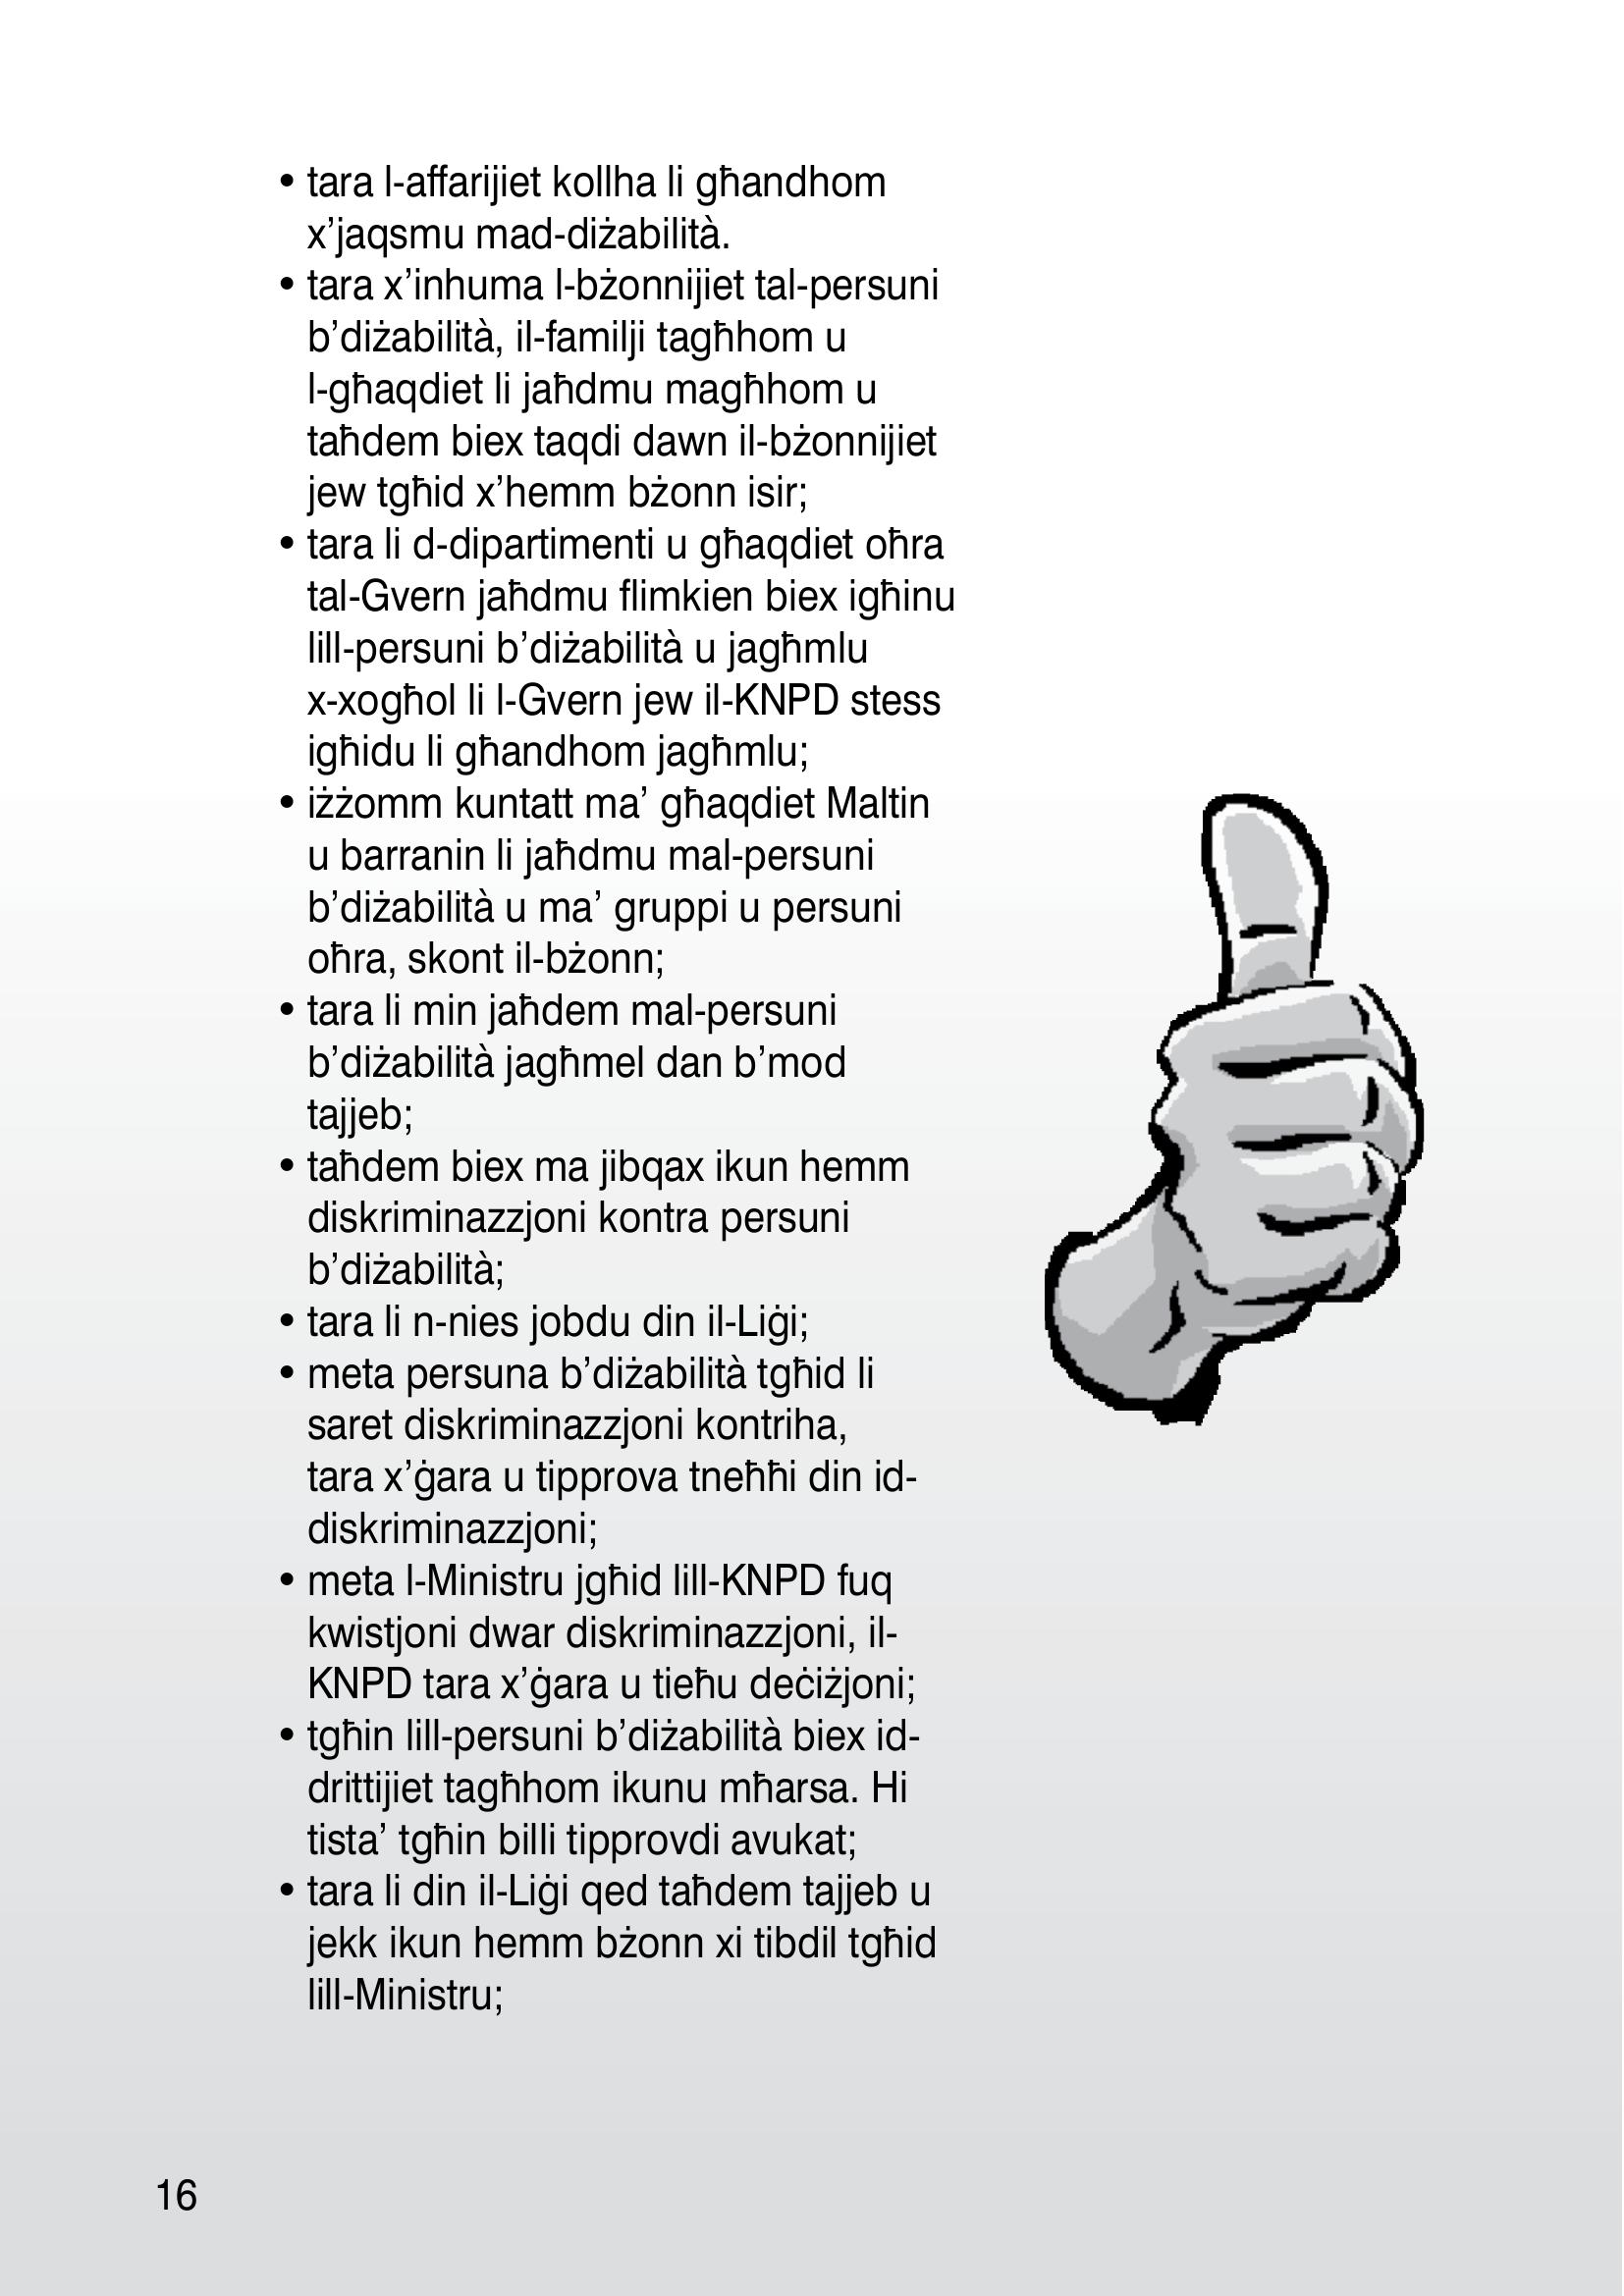text: (244, 139, 960, 2034)
